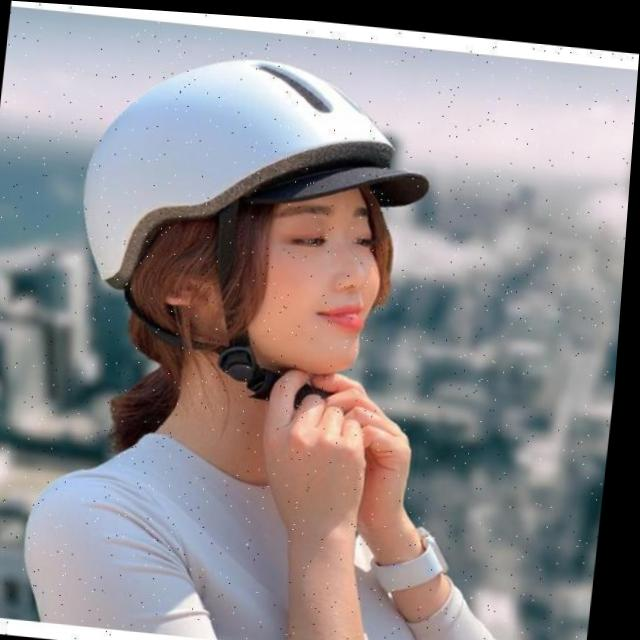helmet: (66, 41, 445, 419)
